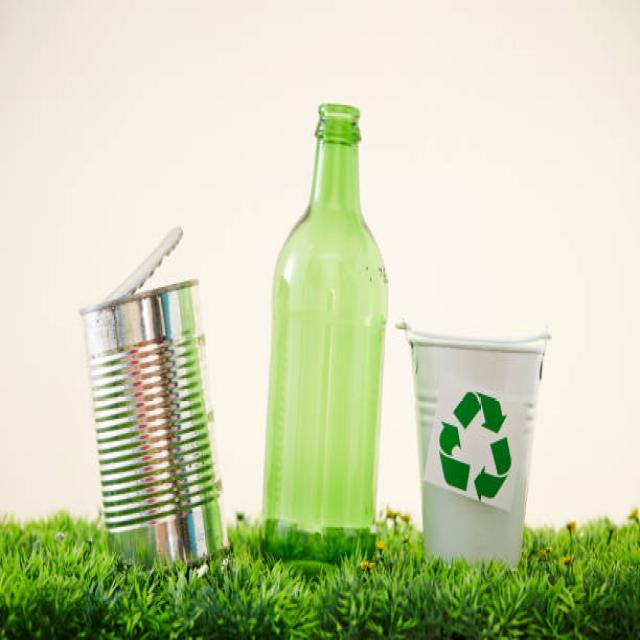glass: (278, 107, 389, 526)
metal: (72, 235, 253, 565)
plastic: (396, 300, 548, 570)
